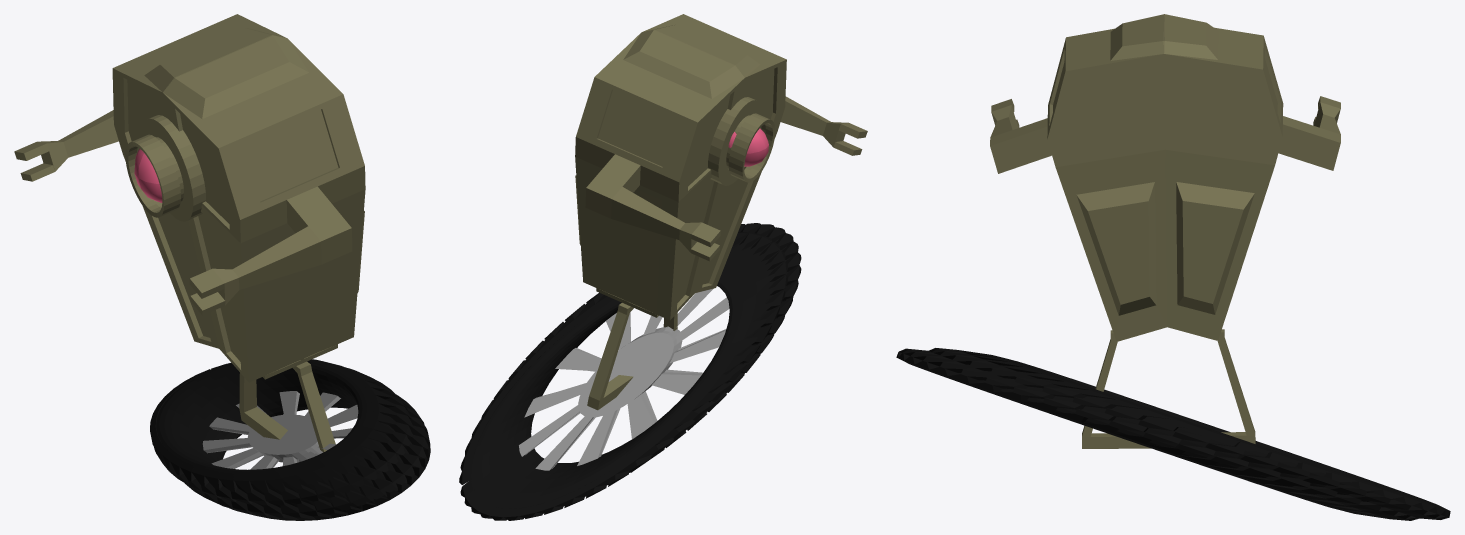
Rendered from robot_1.fbx.
3 renders of one model, left to right at view 1: azimuth 30°, elevation 25°; view 2: azimuth 150°, elevation 25°; view 3: azimuth 270°, elevation 25°, orthographic. The views are drawn at different scales.
Visible parts, largest first — view 1: Robot, Wheel, Wheel.001, ceninhas das rodas, Axis.001, Eye; view 2: Robot, Wheel, Wheel.001, ceninhas das rodas, Axis.001, Eye; view 3: Robot, Wheel, Wheel.001.
Boxes of the visible parts, bbox=[...] form: Robot: bbox=[14, 14, 365, 452]; Wheel: bbox=[150, 359, 430, 520]; Wheel.001: bbox=[156, 362, 414, 516]; ceninhas das rodas: bbox=[202, 391, 358, 469]; Axis.001: bbox=[247, 414, 322, 462]; Eye: bbox=[134, 149, 162, 202]; Robot: bbox=[575, 14, 867, 410]; Wheel: bbox=[459, 223, 801, 520]; Wheel.001: bbox=[471, 232, 792, 508]; ceninhas das rodas: bbox=[519, 288, 729, 470]; Axis.001: bbox=[578, 327, 682, 417]; Eye: bbox=[728, 128, 768, 166]; Robot: bbox=[990, 14, 1340, 448]; Wheel: bbox=[896, 348, 1450, 520]; Wheel.001: bbox=[957, 361, 1435, 507].
Bounding box in the file's own units: 173 × 293 × 320.
